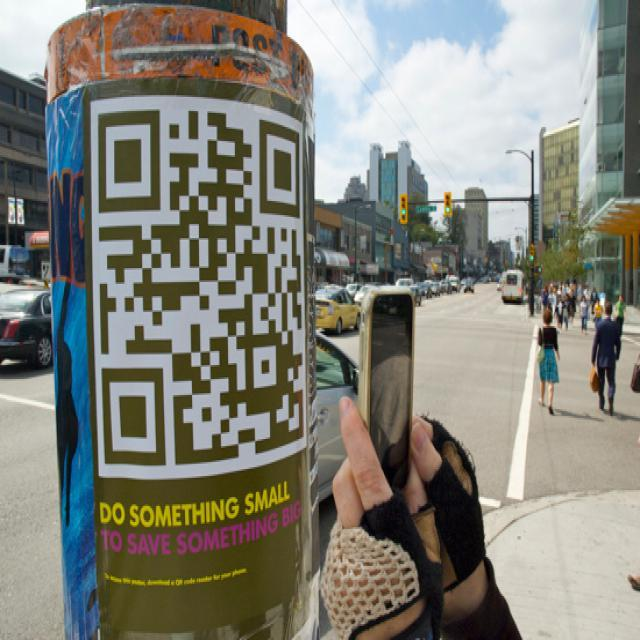qrcode: (99, 110, 304, 465)
